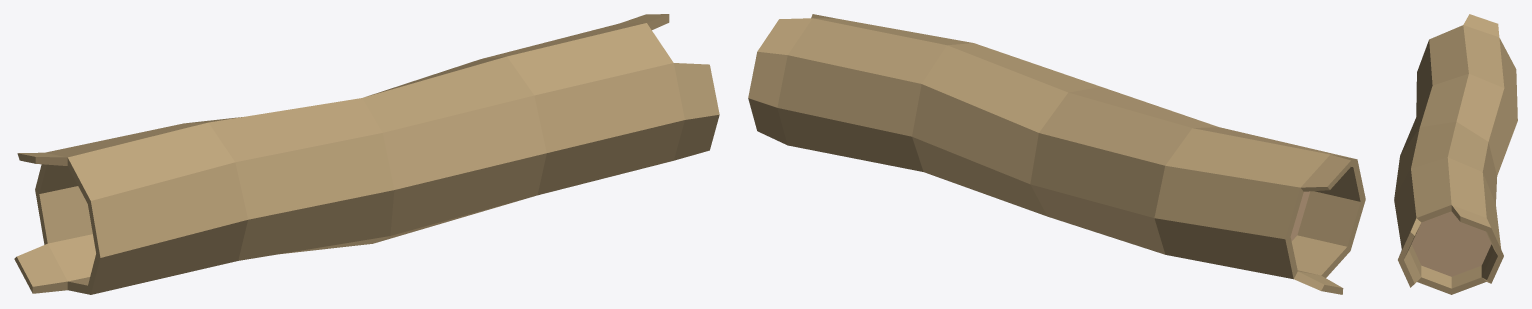
File: Acacia_Log_06.fbx
3 views of the same model, side by side, from view 1: azimuth 30°, elevation 25°; view 2: azimuth 150°, elevation 25°; view 3: azimuth 270°, elevation 25° (orthographic). The views are drawn at different scales.
Parts seen in each view (by area): view 1: Acacia_Log_06; view 2: Acacia_Log_06; view 3: Acacia_Log_06.
Boxes of the visible parts, x1=… form: Acacia_Log_06: x1=14, y1=14, x2=719, y2=294; Acacia_Log_06: x1=748, y1=14, x2=1365, y2=294; Acacia_Log_06: x1=1394, y1=14, x2=1517, y2=294.
Bounding box in the file's own units: 186 × 42.33 × 48.81.
